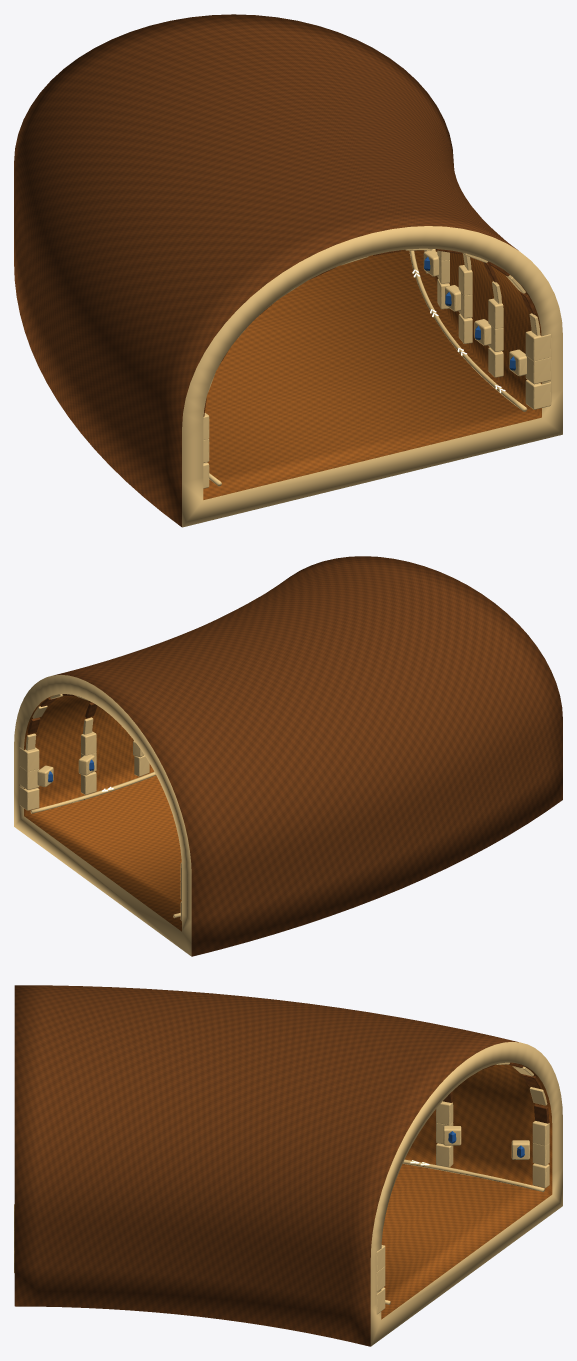
The model's file is curve_right_30.glb.
The picture shows the model from 3 angles, top to bottom: view 1: azimuth 30°, elevation 25°; view 2: azimuth 150°, elevation 25°; view 3: azimuth 270°, elevation 25°; orthographic projection. The views are drawn at different scales.
Visible parts, largest first — view 1: TunnelGeometry; view 2: TunnelGeometry; view 3: TunnelGeometry.
Part boxes in pixels (x1,y1,x2,y2): TunnelGeometry: [14, 14, 562, 527]; TunnelGeometry: [14, 556, 562, 956]; TunnelGeometry: [14, 985, 562, 1346].
Bounding box in the file's own units: 19.1 × 9.52 × 21.85.
Materials: 5 (2 with a texture image).
